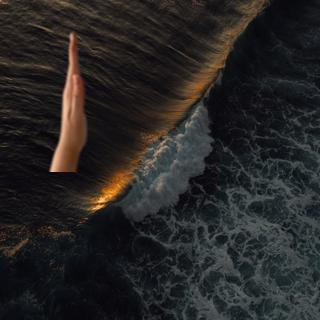Right: (48, 26, 100, 171)
